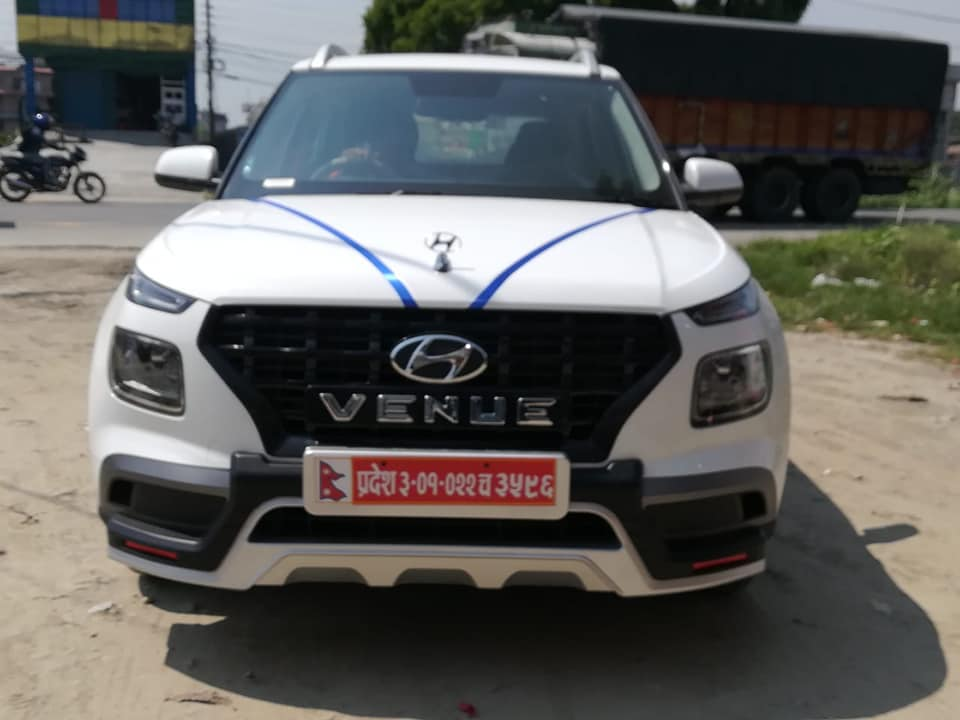number plate: (299, 442, 573, 527)
